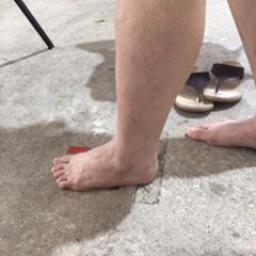Lateral View -Left Foot-: (45, 118, 174, 196)
